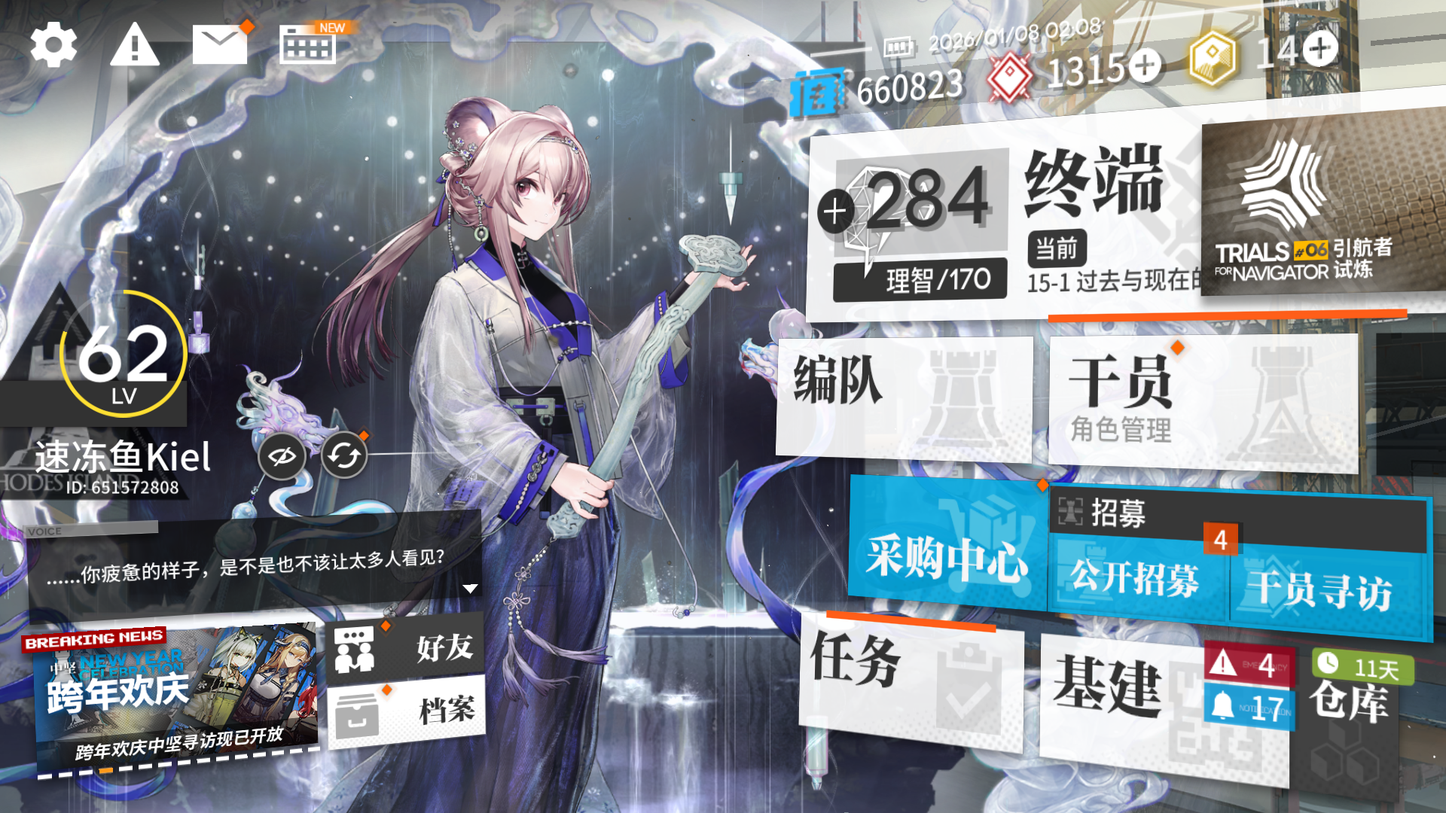home_button: (1011, 141, 1183, 240)
infrastructure_button: (1055, 649, 1267, 778)
